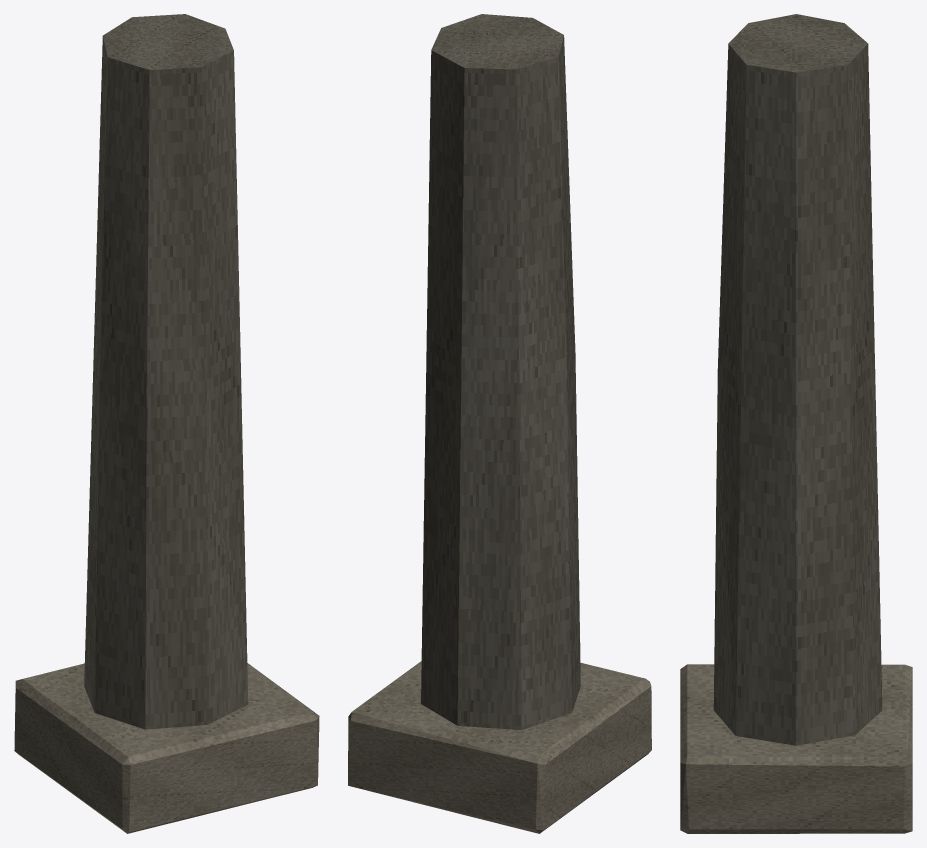
The model's file is env_ruin_pillars_06_octagonal.glb.
3 views of the same model, side by side, from view 1: azimuth 30°, elevation 25°; view 2: azimuth 150°, elevation 25°; view 3: azimuth 270°, elevation 25° (orthographic). The views are drawn at different scales.
Bounding box in the file's own units: 0.65 × 2.3 × 0.65.
Materials: 1 (1 with a texture image).
